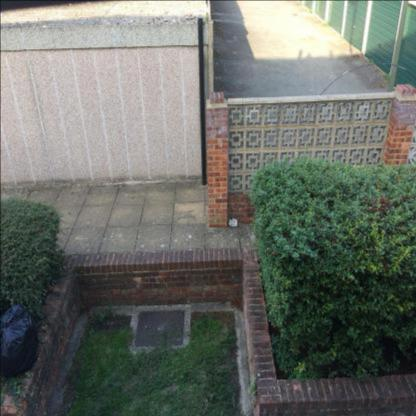Carton: (228, 219, 238, 226)
Plastic bag - wrapper: (1, 302, 40, 379)
